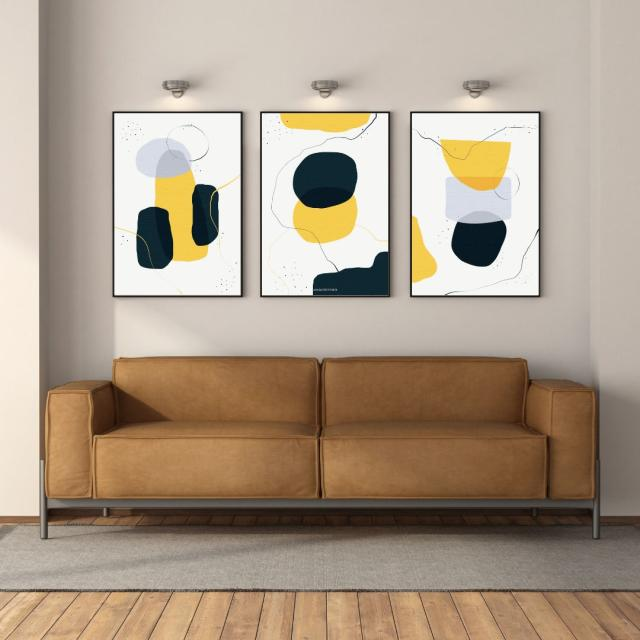painting: (113, 110, 244, 297), (256, 110, 387, 297), (409, 112, 540, 298)
